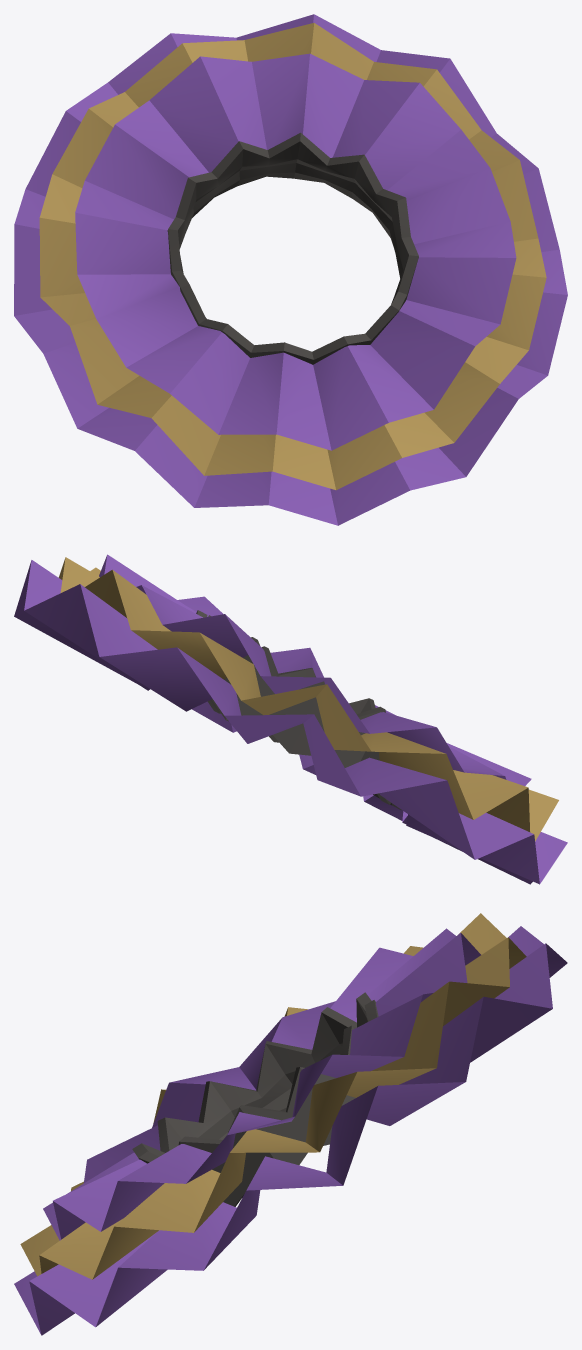
Rendered from amuletRuff2.fbx.
The picture shows the model from 3 angles, top to bottom: view 1: azimuth 30°, elevation 25°; view 2: azimuth 150°, elevation 25°; view 3: azimuth 270°, elevation 25°; orthographic projection. The views are drawn at different scales.
Visible parts, largest first — view 1: amuletRuff2; view 2: amuletRuff2; view 3: amuletRuff2.
Part boxes in pixels (x1=…): amuletRuff2: x1=14, y1=14, x2=567, y2=525; amuletRuff2: x1=14, y1=554, x2=567, y2=884; amuletRuff2: x1=14, y1=913, x2=567, y2=1335.
Bounding box in the file's own units: 1.64 × 1.15 × 1.45.
